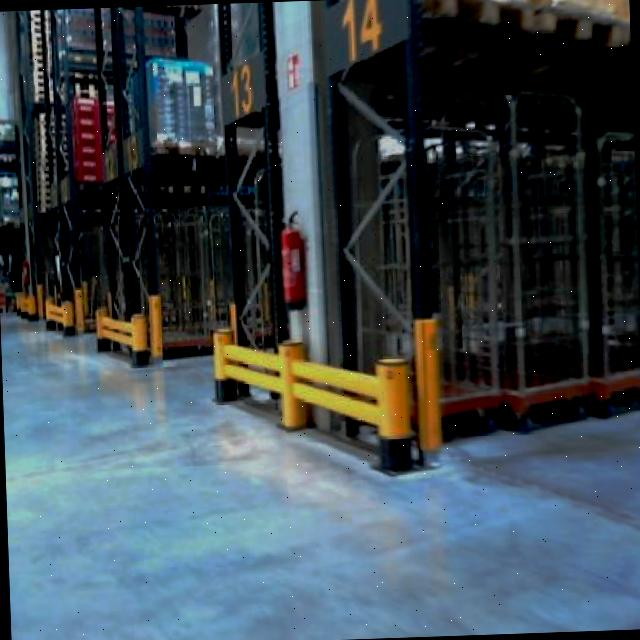ground: (0, 274, 640, 640)
pallet: (335, 0, 640, 476), (335, 74, 640, 441), (107, 192, 245, 365), (68, 80, 119, 194), (0, 285, 6, 314)
